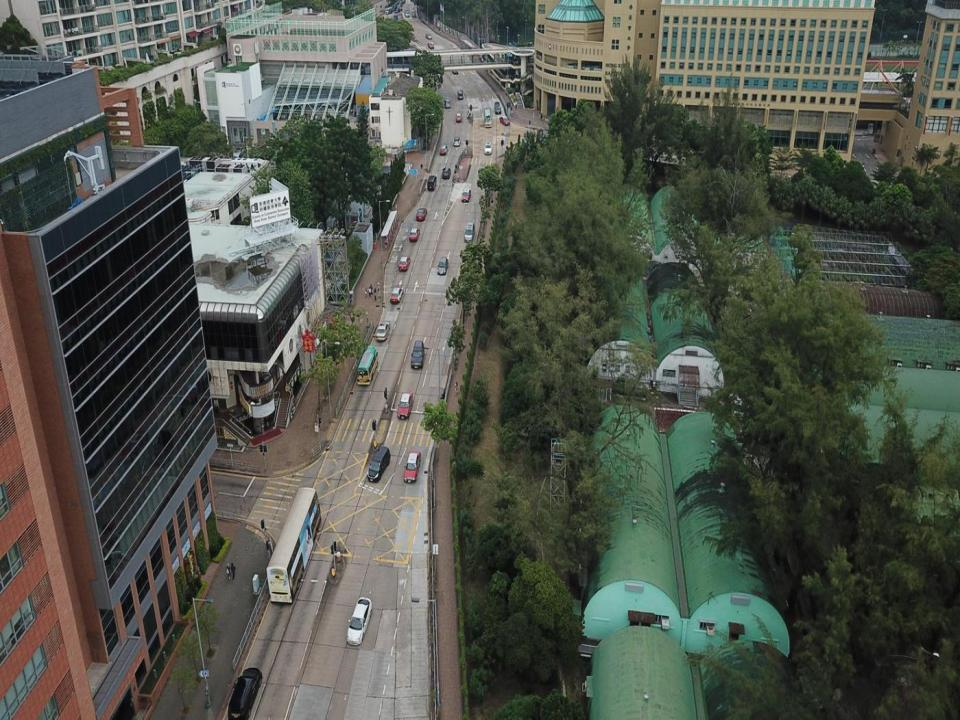bus: (266, 487, 322, 606), (356, 346, 378, 386)
car: (346, 598, 372, 645), (403, 452, 421, 484), (397, 391, 414, 419), (377, 322, 390, 342), (436, 257, 449, 275), (390, 285, 403, 303), (398, 255, 410, 270), (408, 227, 420, 241), (416, 208, 427, 222), (499, 114, 511, 126), (461, 189, 470, 202), (442, 166, 450, 180), (484, 142, 492, 154), (453, 135, 461, 146), (440, 146, 448, 154), (456, 112, 462, 122), (444, 98, 450, 108), (457, 90, 463, 99), (428, 43, 435, 49), (426, 32, 432, 37), (404, 11, 410, 15)
van: (229, 667, 262, 719), (367, 446, 390, 483), (411, 340, 424, 370), (464, 223, 474, 242), (494, 101, 502, 115), (385, 7, 393, 14)
